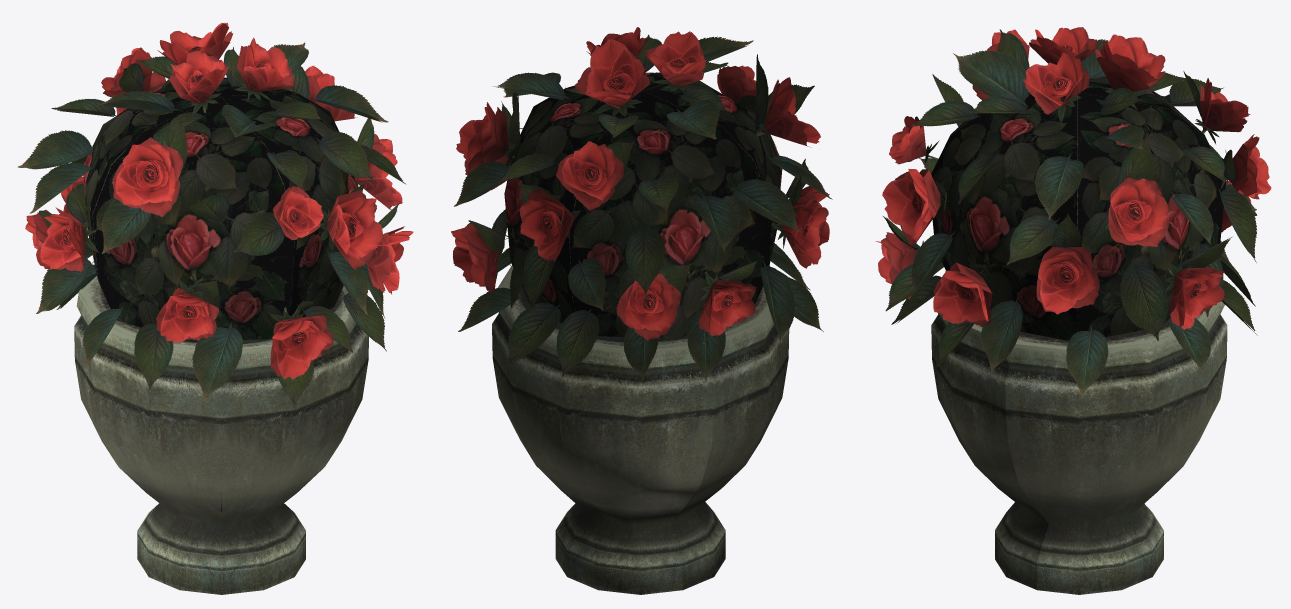
Rendered from roses.gltf.
3 views of the same model, side by side, from view 1: azimuth 30°, elevation 25°; view 2: azimuth 150°, elevation 25°; view 3: azimuth 270°, elevation 25° (orthographic).
Visible parts, largest first — view 1: roses_prim1_9_StaticMeshComponent0, roses_prim0_11_StaticMeshComponent0; view 2: roses_prim1_9_StaticMeshComponent0, roses_prim0_11_StaticMeshComponent0; view 3: roses_prim1_9_StaticMeshComponent0, roses_prim0_11_StaticMeshComponent0.
Boxes of the visible parts, bbox=[...] form: roses_prim1_9_StaticMeshComponent0: bbox=[18, 22, 413, 408]; roses_prim0_11_StaticMeshComponent0: bbox=[74, 276, 368, 594]; roses_prim1_9_StaticMeshComponent0: bbox=[451, 27, 832, 381]; roses_prim0_11_StaticMeshComponent0: bbox=[492, 265, 789, 594]; roses_prim1_9_StaticMeshComponent0: bbox=[875, 27, 1271, 397]; roses_prim0_11_StaticMeshComponent0: bbox=[931, 301, 1227, 594].
Size of the model in its own units: 1.02 by 1.47 by 1.04.
Materials: 1 (1 with a texture image).
